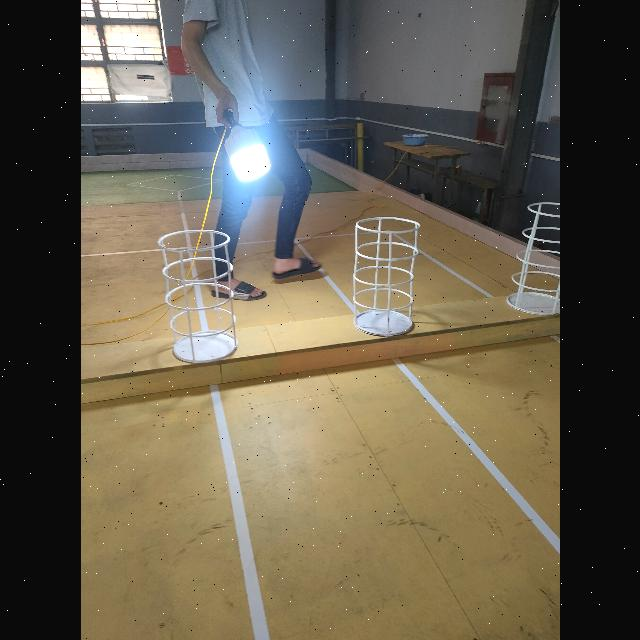S: (154, 226, 241, 367), (351, 213, 423, 340), (504, 199, 560, 317)
